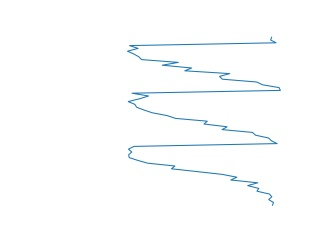distributaryMouthBar: (124, 35, 279, 208)
